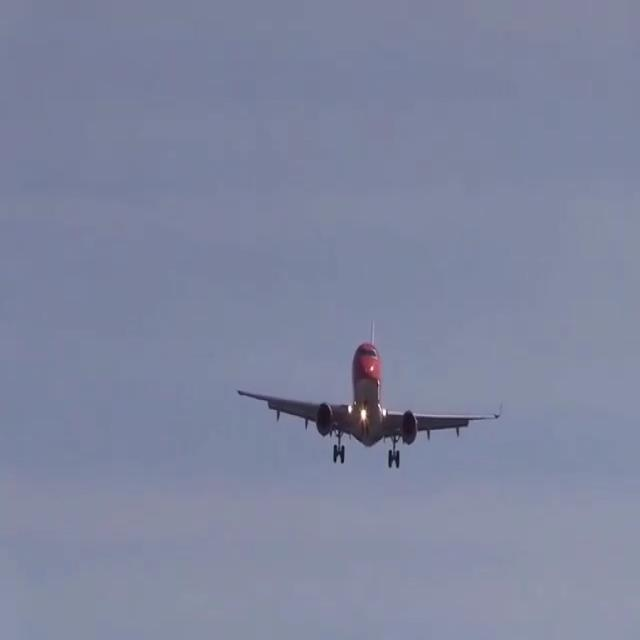AirPlane: (222, 310, 515, 480)
